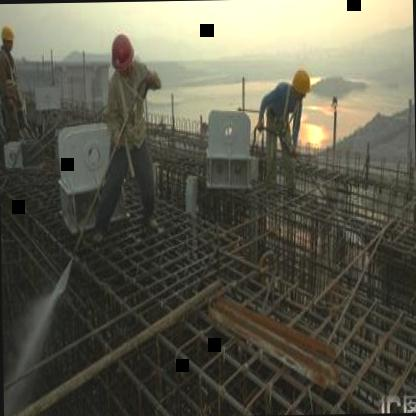helmet: (109, 30, 135, 76), (286, 64, 314, 106), (0, 22, 17, 52)
